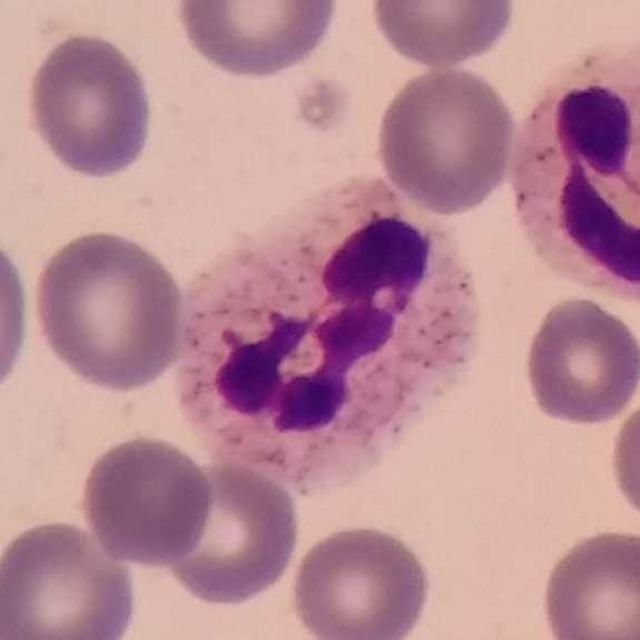Neutrophil: (162, 182, 498, 501), (502, 62, 640, 308)
Platelets: (293, 75, 362, 136)
RBC: (29, 225, 188, 395), (155, 455, 304, 609), (372, 62, 520, 215), (21, 28, 159, 181), (76, 432, 217, 568), (286, 518, 435, 640), (0, 515, 141, 639), (519, 292, 639, 429), (172, 0, 342, 81), (536, 524, 640, 640), (366, 0, 520, 70), (0, 226, 36, 408), (604, 390, 640, 534)
